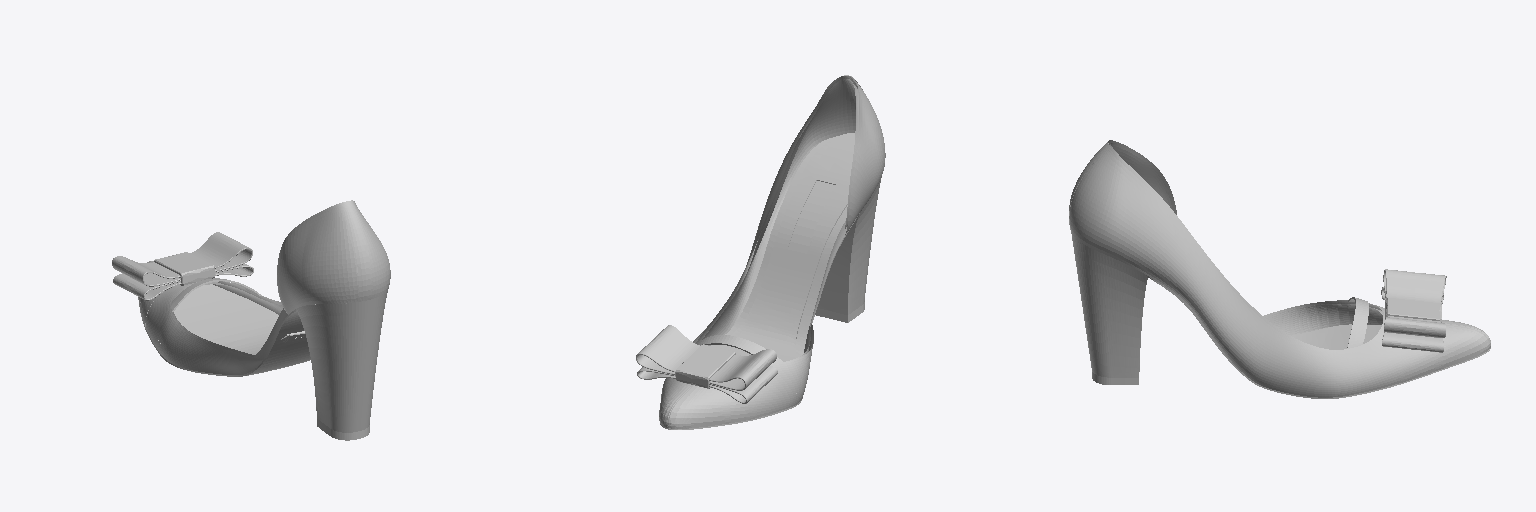
Rendered from PH375BLPLAPL.obj.
3 views of the same model, side by side, from view 1: azimuth 30°, elevation 25°; view 2: azimuth 150°, elevation 25°; view 3: azimuth 270°, elevation 25° (orthographic).
Visible parts, largest first — view 1: FR1, HE1, IN1, BB1, SO1, SH1, BB2, LI1; view 2: IN1, FR1, BB1, HE1, HG1, IB1, LI1, PT1, BB2, IL1, TO1, LS1; view 3: FR1, HE1, BB1, LI1, TO1, PT1, IN1, HG1, BB2, LS1, SO1.
Boxes of the visible parts, x1=… form: FR1: x1=146, y1=200, x2=390, y2=374; HE1: x1=296, y1=291, x2=387, y2=432; IN1: x1=174, y1=284, x2=278, y2=354; BB1: x1=112, y1=232, x2=253, y2=300; SO1: x1=140, y1=309, x2=310, y2=376; SH1: x1=339, y1=200, x2=372, y2=301; BB2: x1=154, y1=252, x2=214, y2=285; LI1: x1=172, y1=282, x2=283, y2=356; IN1: x1=712, y1=133, x2=854, y2=361; FR1: x1=693, y1=76, x2=885, y2=417; BB1: x1=636, y1=325, x2=777, y2=403; HE1: x1=817, y1=177, x2=881, y2=314; HG1: x1=785, y1=79, x2=858, y2=228; IB1: x1=711, y1=136, x2=847, y2=393; LI1: x1=697, y1=154, x2=810, y2=356; PT1: x1=659, y1=380, x2=730, y2=428; BB2: x1=675, y1=344, x2=735, y2=388; IL1: x1=788, y1=181, x2=835, y2=253; TO1: x1=659, y1=378, x2=756, y2=428; LS1: x1=696, y1=335, x2=782, y2=362; FR1: x1=1069, y1=140, x2=1400, y2=397; HE1: x1=1071, y1=232, x2=1147, y2=377; BB1: x1=1381, y1=269, x2=1446, y2=352; LI1: x1=1264, y1=304, x2=1383, y2=335; TO1: x1=1401, y1=320, x2=1490, y2=382; PT1: x1=1433, y1=320, x2=1490, y2=370; IN1: x1=1292, y1=324, x2=1381, y2=349; HG1: x1=1110, y1=143, x2=1174, y2=212; BB2: x1=1385, y1=298, x2=1441, y2=322; LS1: x1=1347, y1=297, x2=1368, y2=348; SO1: x1=1148, y1=276, x2=1490, y2=398.
Size of the model in its own units: 82.75 by 150 by 246.